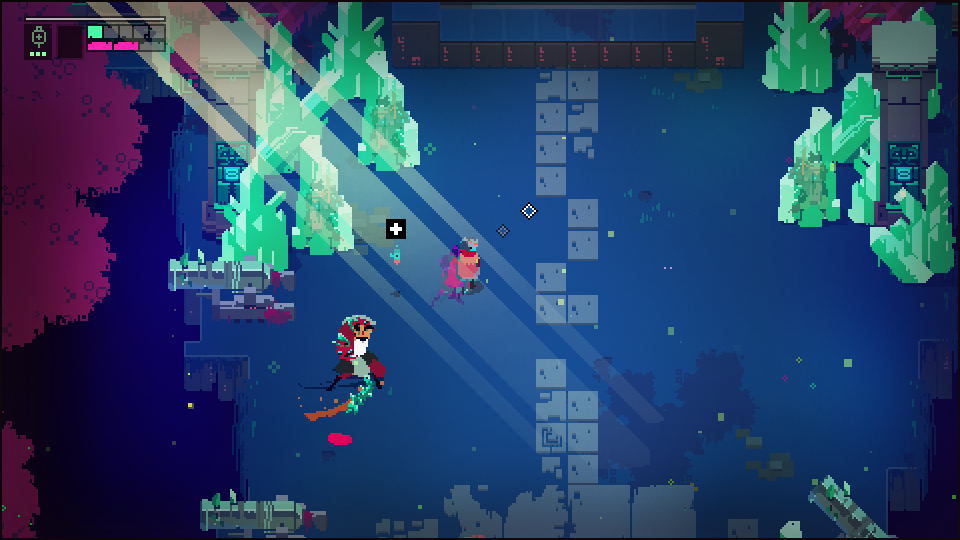hanged_man: (322, 316, 385, 424)
player: (455, 237, 482, 289)
